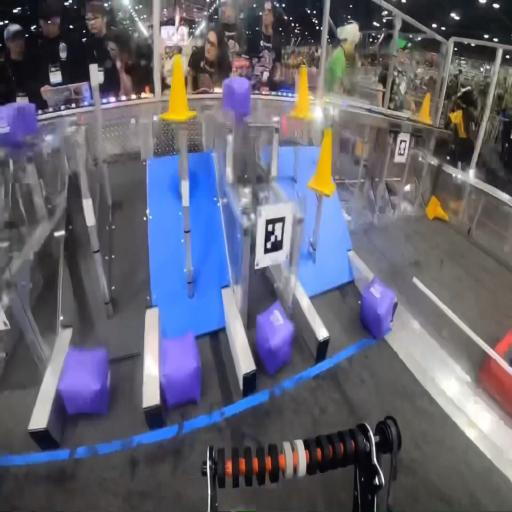robot: (476, 328, 512, 418)
